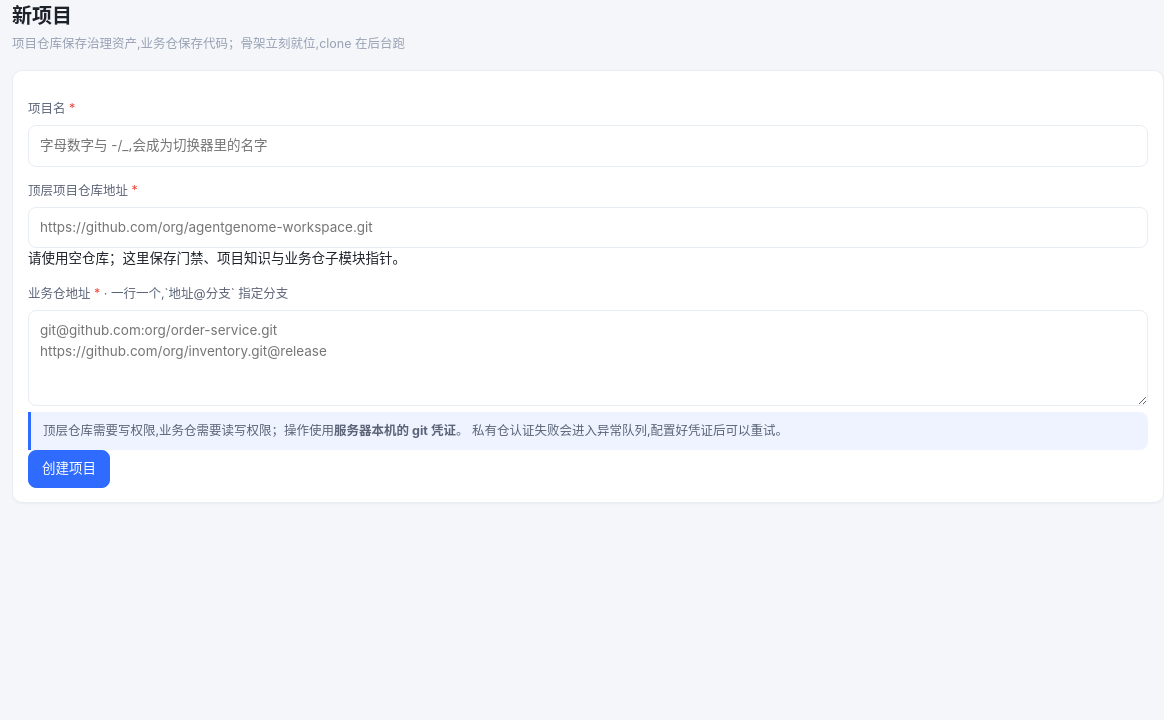
Test case: ProjectSetup › tells apart adoption of an orphaned directory from a fresh create
Type "shop" into the field with placeholder "字母数字与 -/_,会成为切换器里的名字" at x=588, y=146, box [28,125,1148,167]
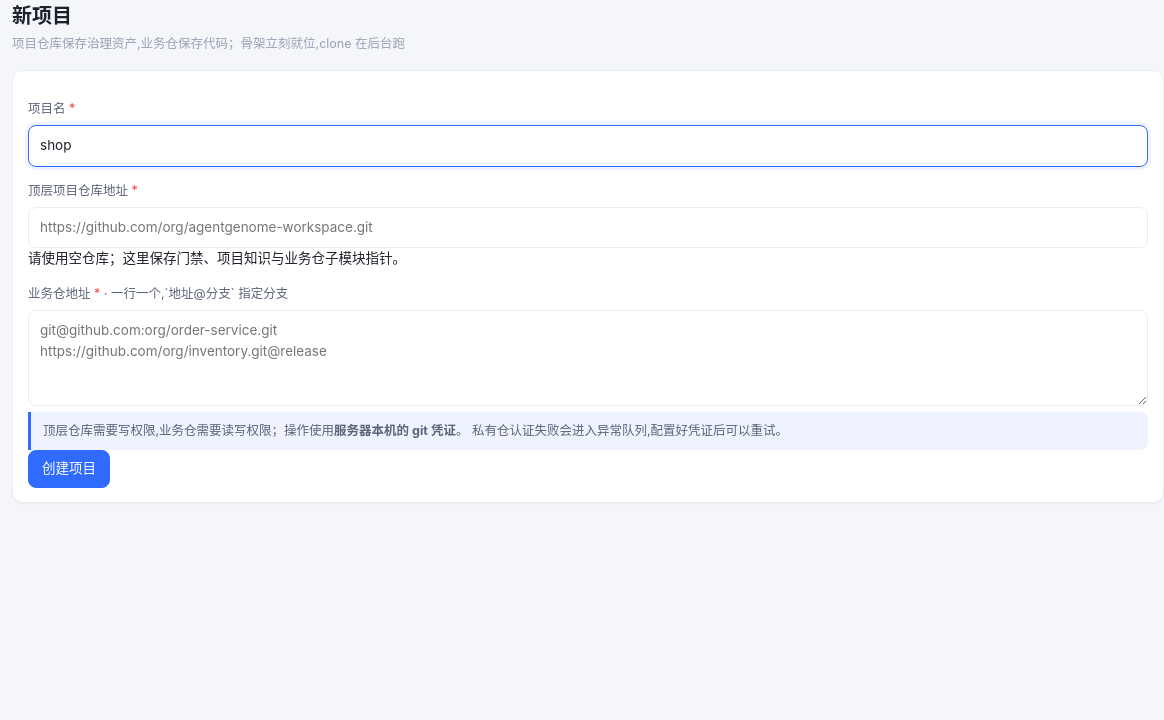
Type "https://github.com/acme/shop-workspace.git" into the field with placeholder "https://github.com/org/agentgenome-workspace.git" at x=588, y=227, box [28,207,1148,248]
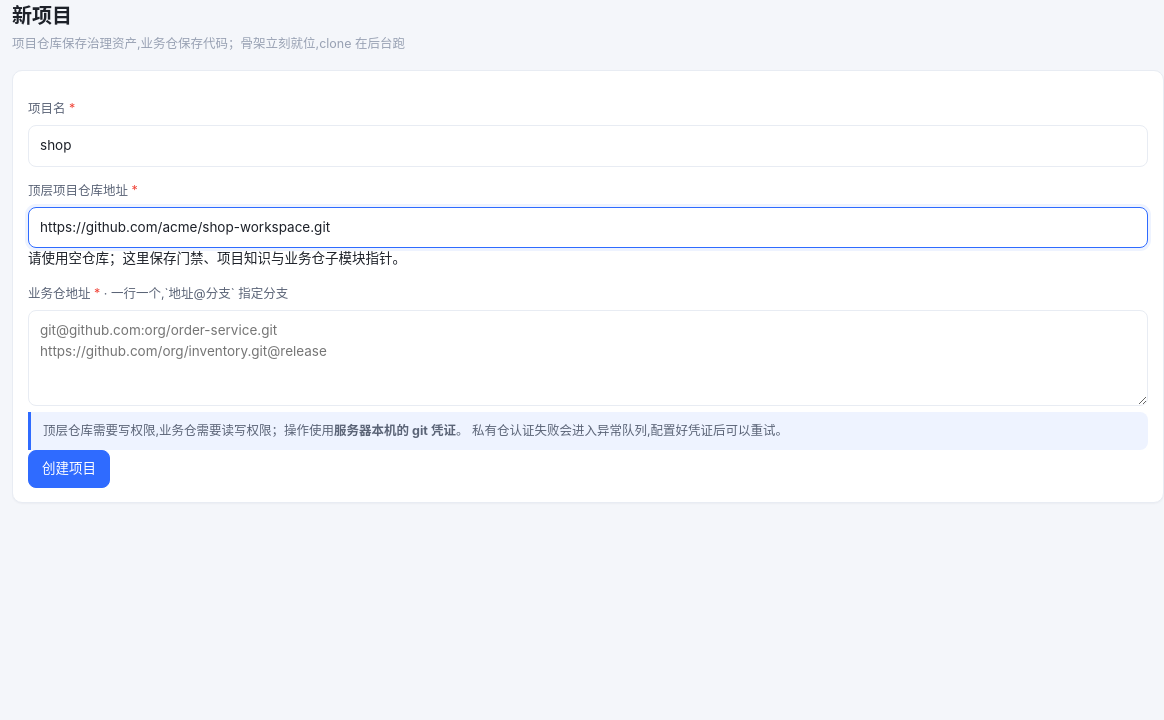
Type "a.git" into the text box with placeholder "order-service" at x=588, y=358, box [28,310,1148,406]
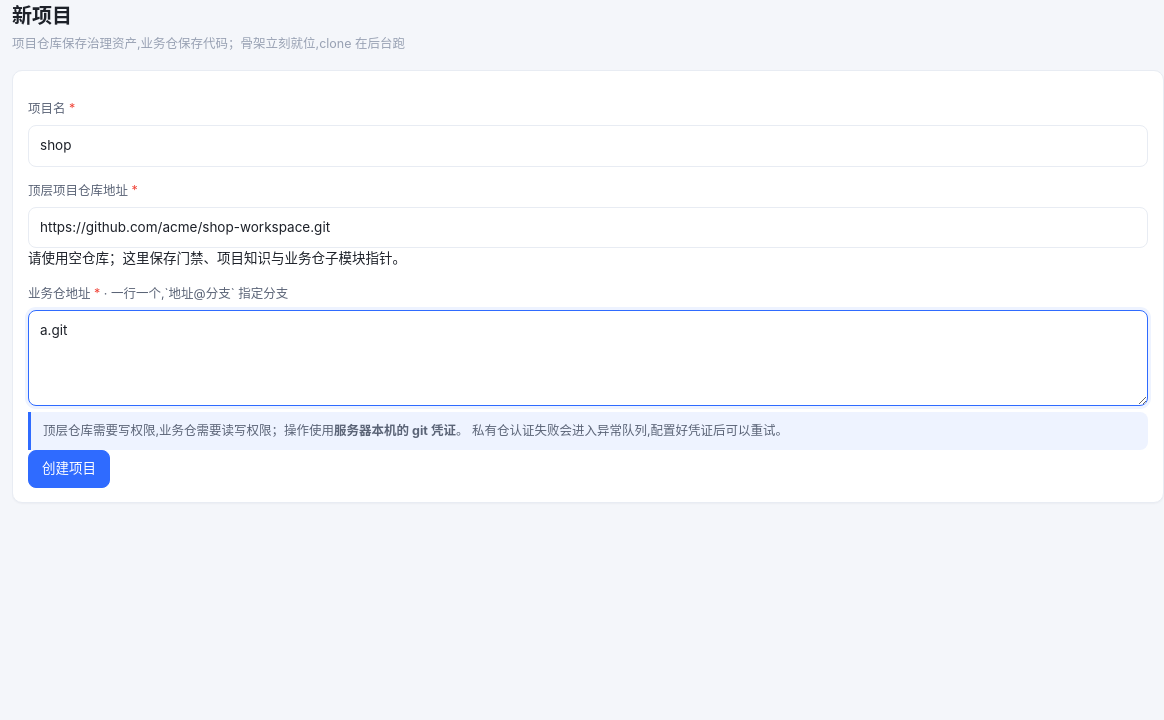
Click the button "创建项目" at x=69, y=469, box [28,450,110,488]
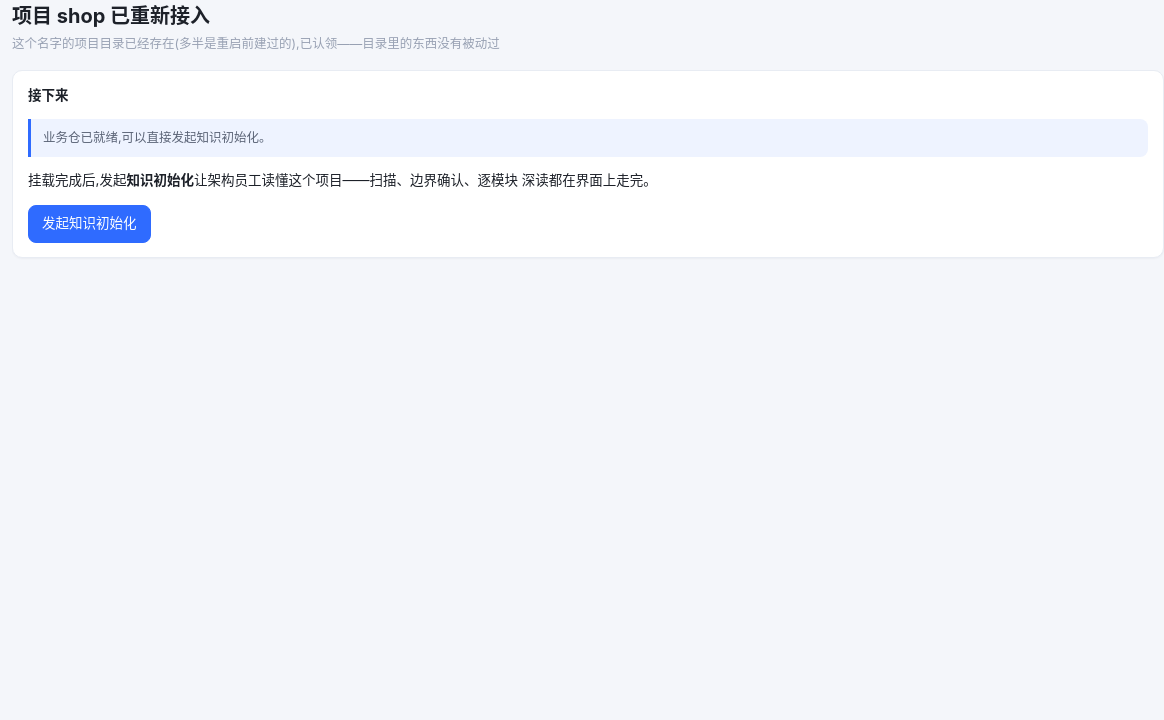
Check: the heading "项目 shop 已重新接入" is shown, box [12,4,210,28]
Check: the text "业务仓已就绪,可以直接发起知识初始化。" is shown, box [28,119,1148,157]
